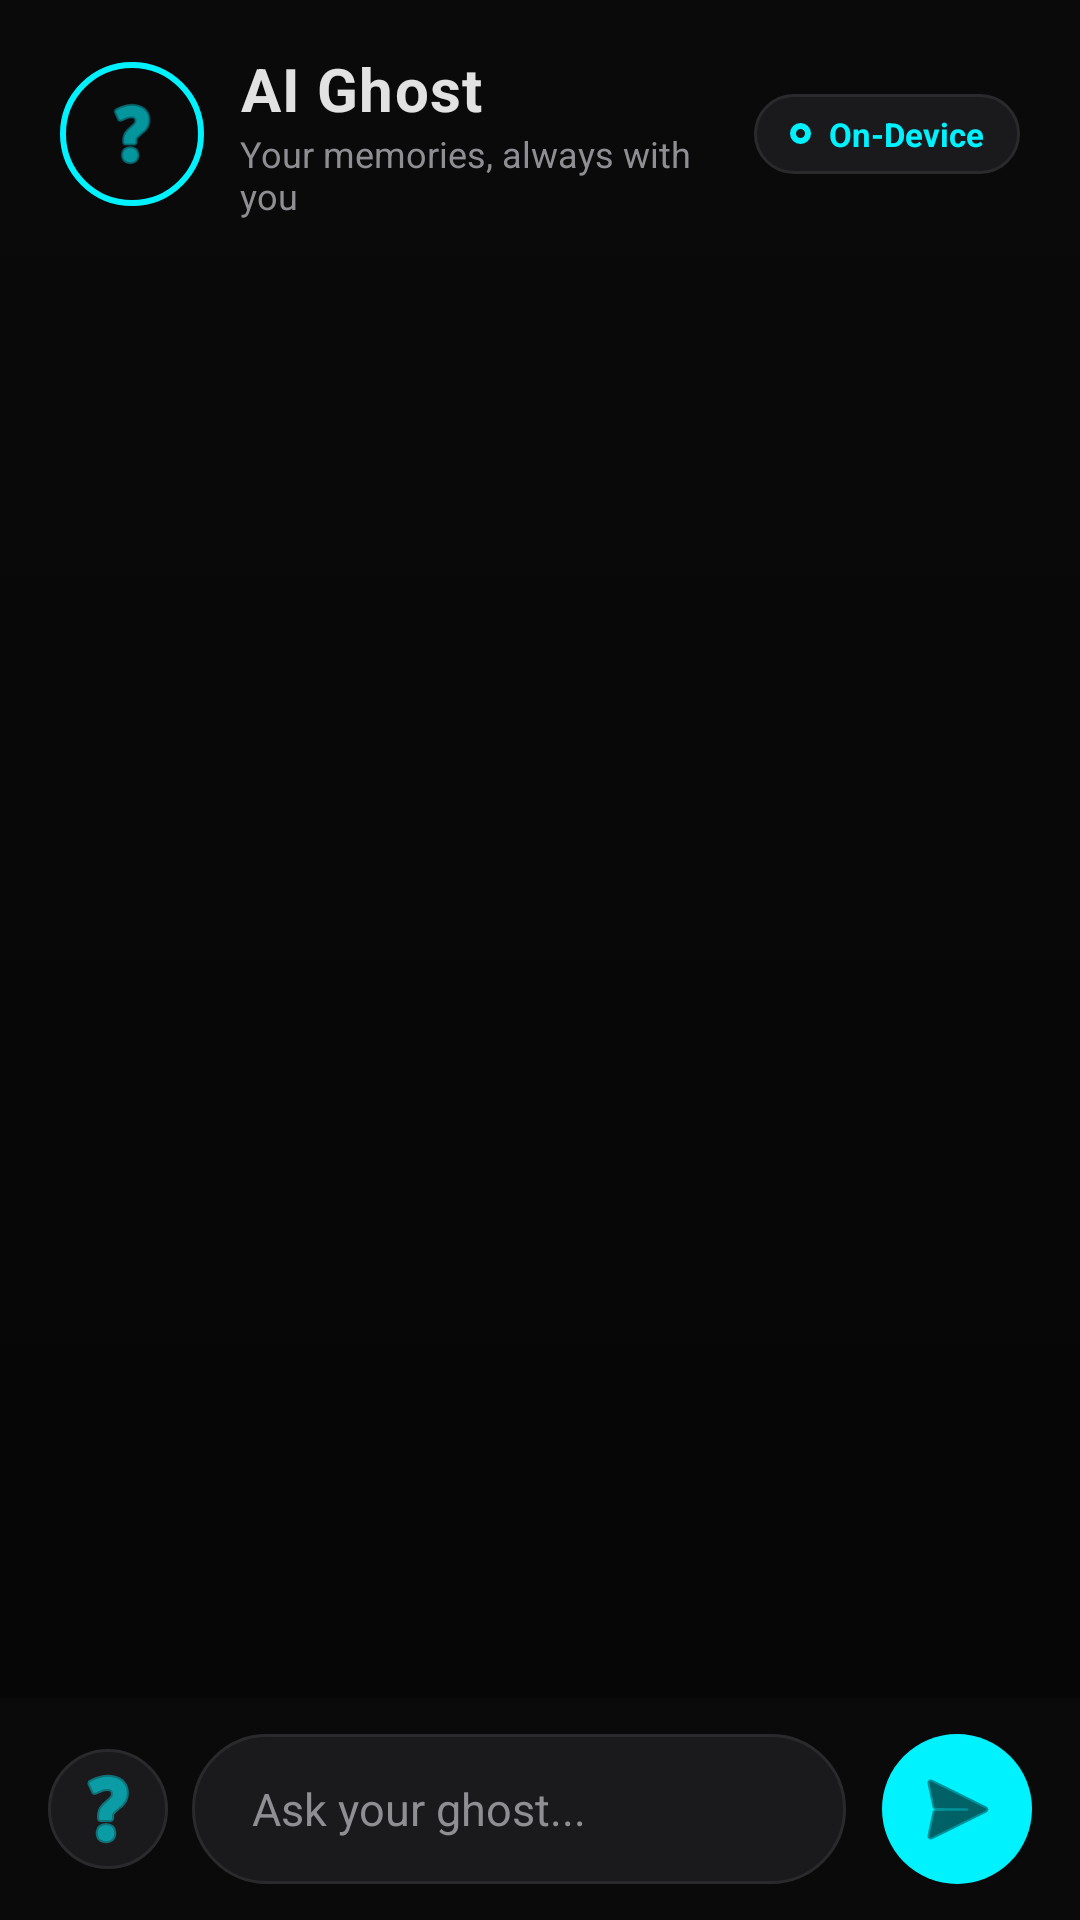

Named icons in this screenshot (1080px x 1920px) and their centers, [x,y]:
help: [132,134]
Send: [957,1809]
